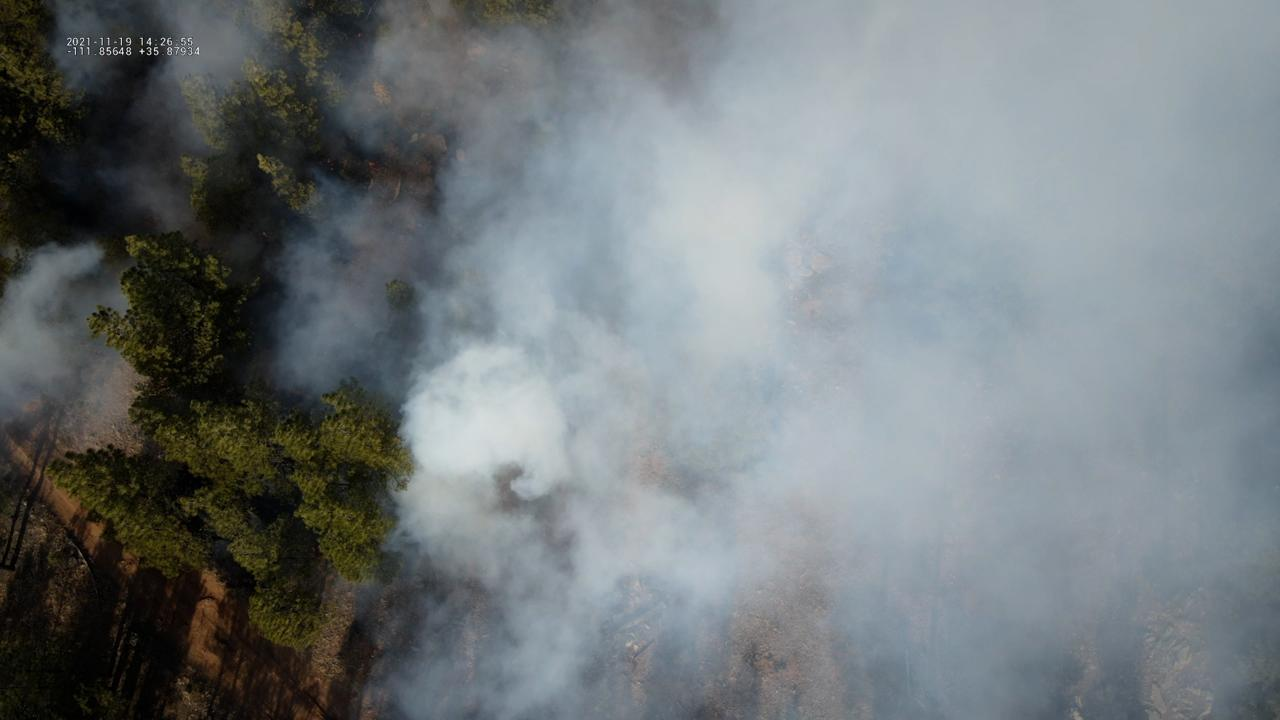fire: (367, 160, 378, 174)
smoke: (0, 0, 1280, 720)
